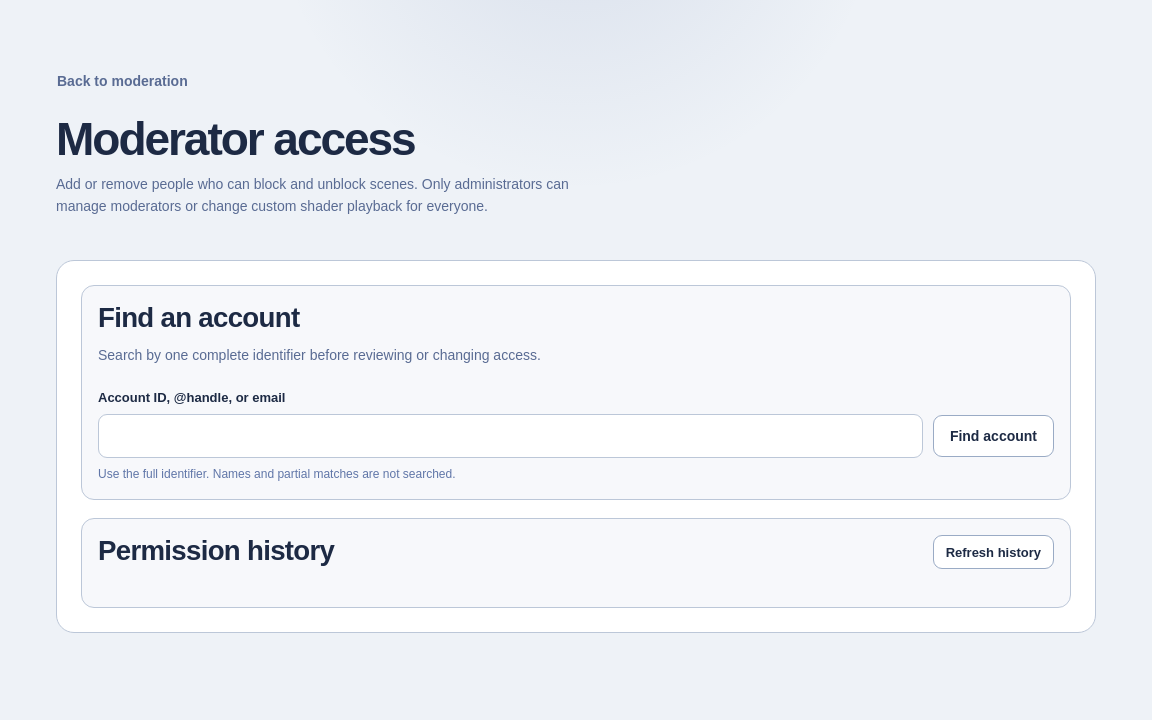
Scenario: moderator management › identifies an account and confirms a grant with keyboard access in classic-facebook
expect the heading "Find an account" is shown: met, box [98,302,299,333]
Type "@ari" into the field labelled "Account ID, @handle, or email" at (510,436), box [98,414,923,458]
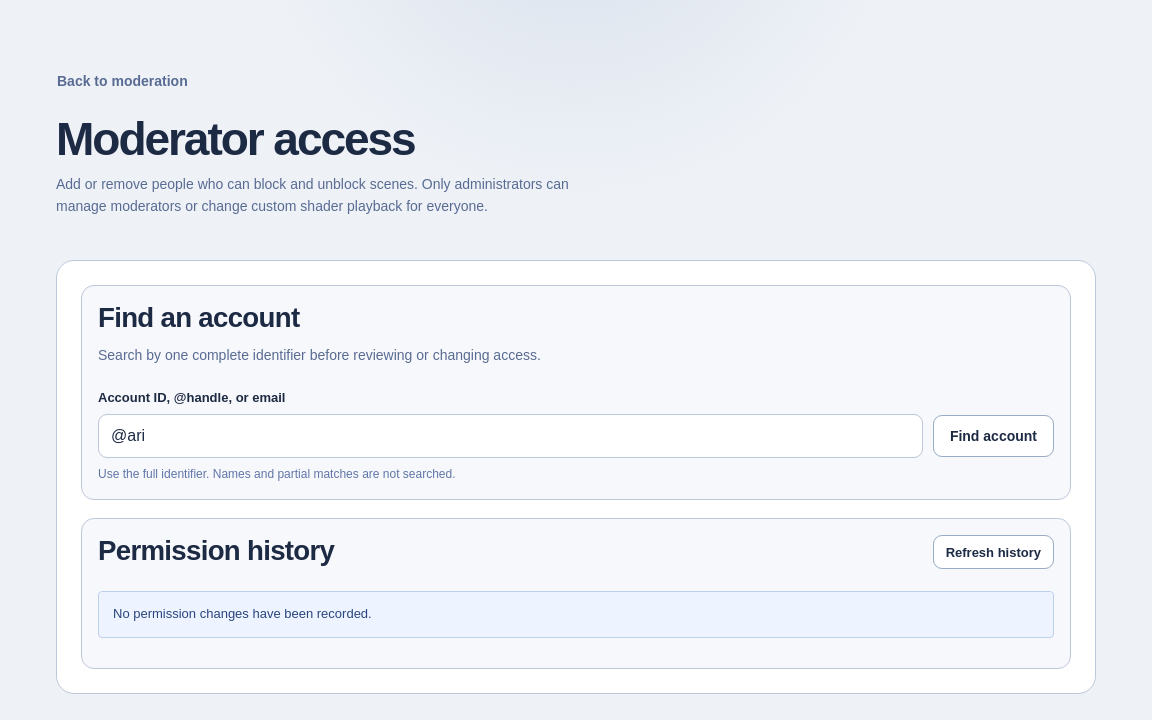
Click the button "Find account" at (993,436), box [933,415,1054,457]
(page scrolled)
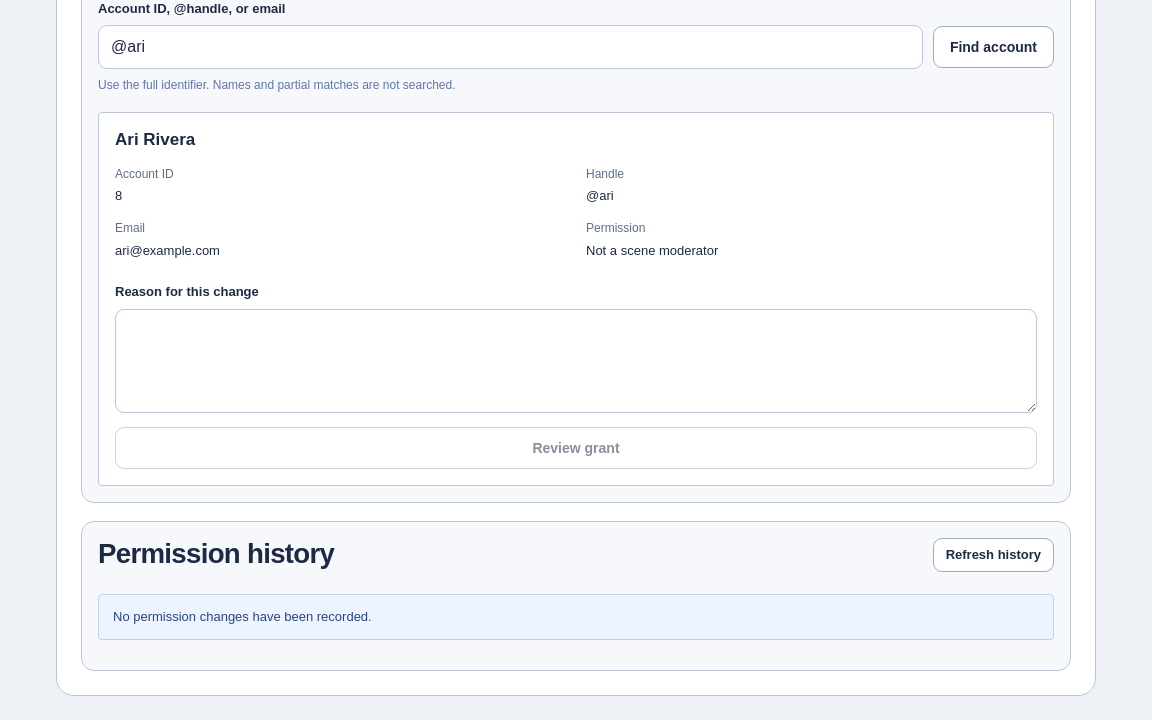
Type "Trusted scene reviewer" into the text box labelled "Reason for this change" at (576,361), box [115,309,1037,413]
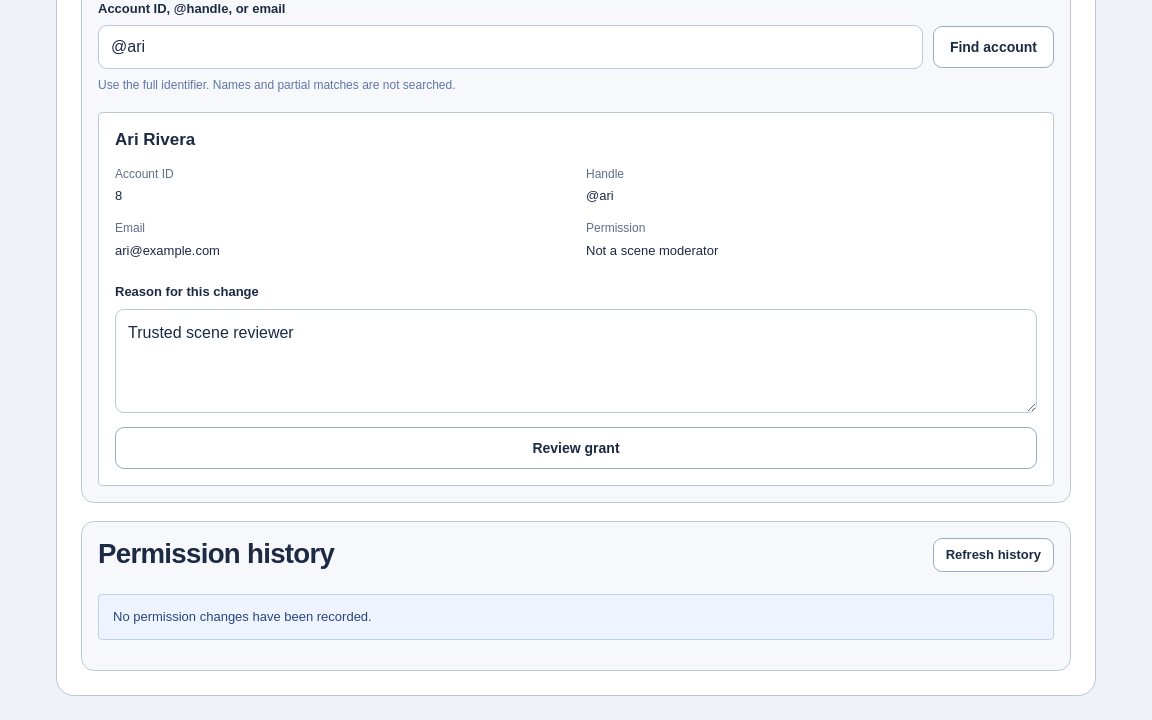
Click the button "Review grant" at (576,448), box [115,427,1037,469]
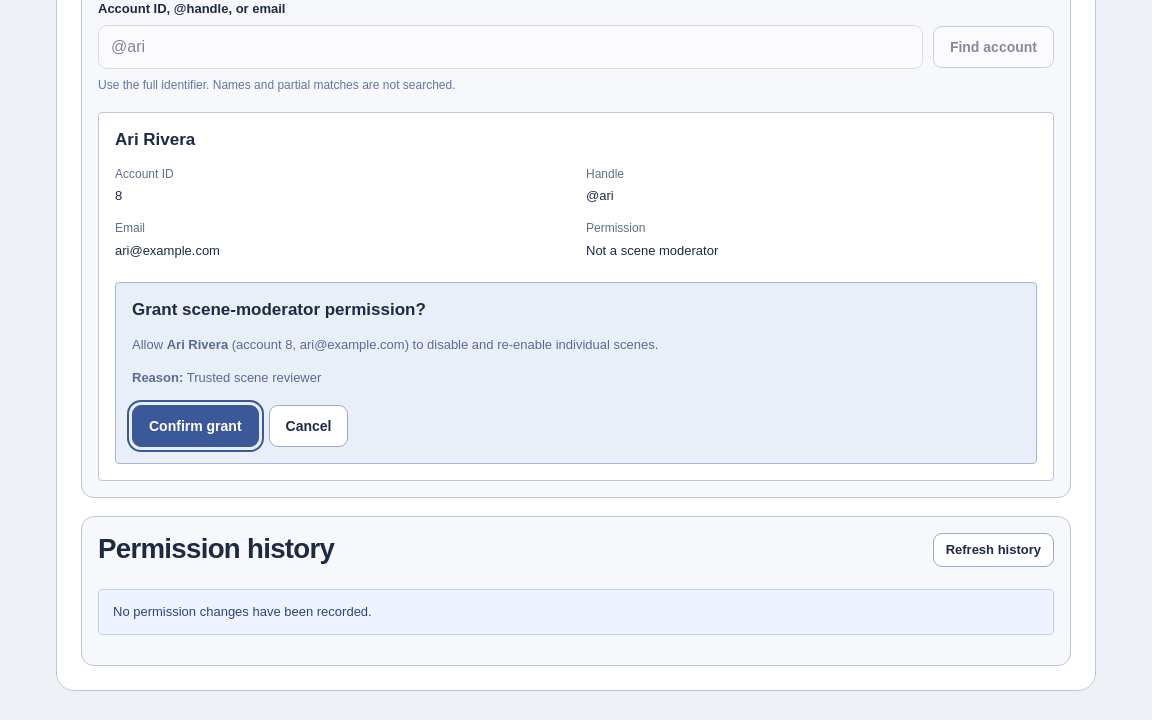
expect the text "ari@example.com" is shown: met, box [115,243,220,258]
expect the text "@ari" is shown: met, box [586,188,614,203]
expect the text "Not a scene moderator" is shown: met, box [586,243,718,258]
Press Enter
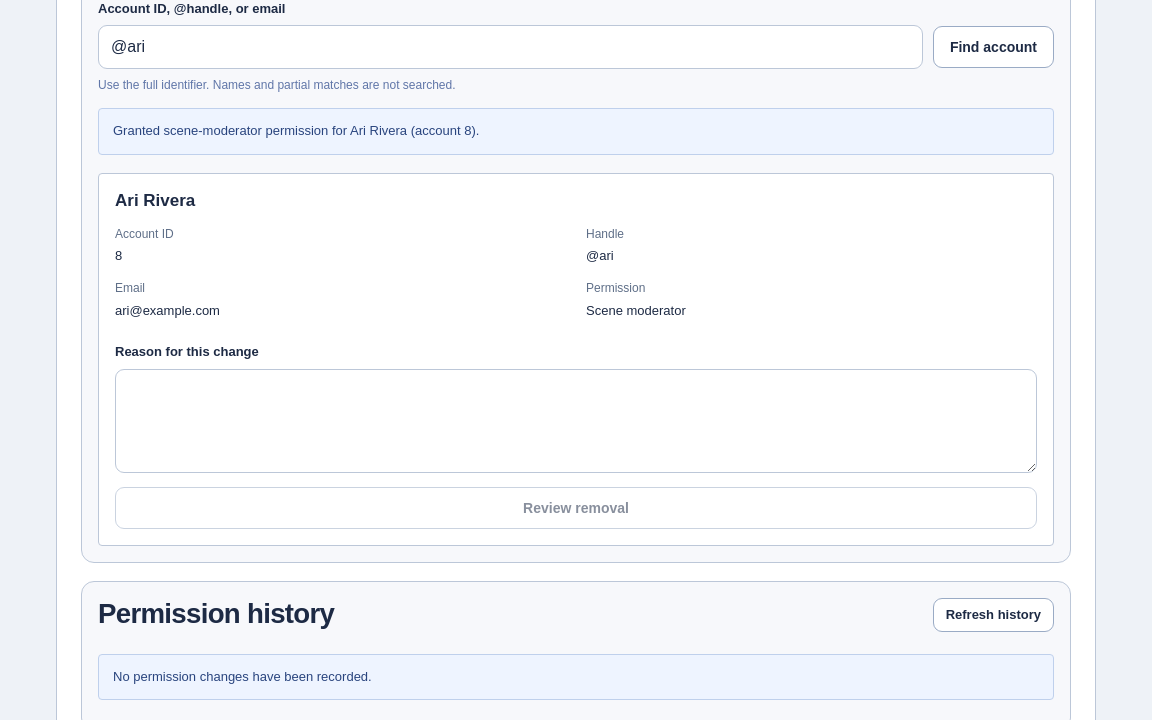
expect the text "Scene moderator" is shown: met, box [586,303,686,318]
expect the text "Granted scene-moderator permission for Ari Rivera (account 8)." is shown: met, box [98,108,1054,154]
